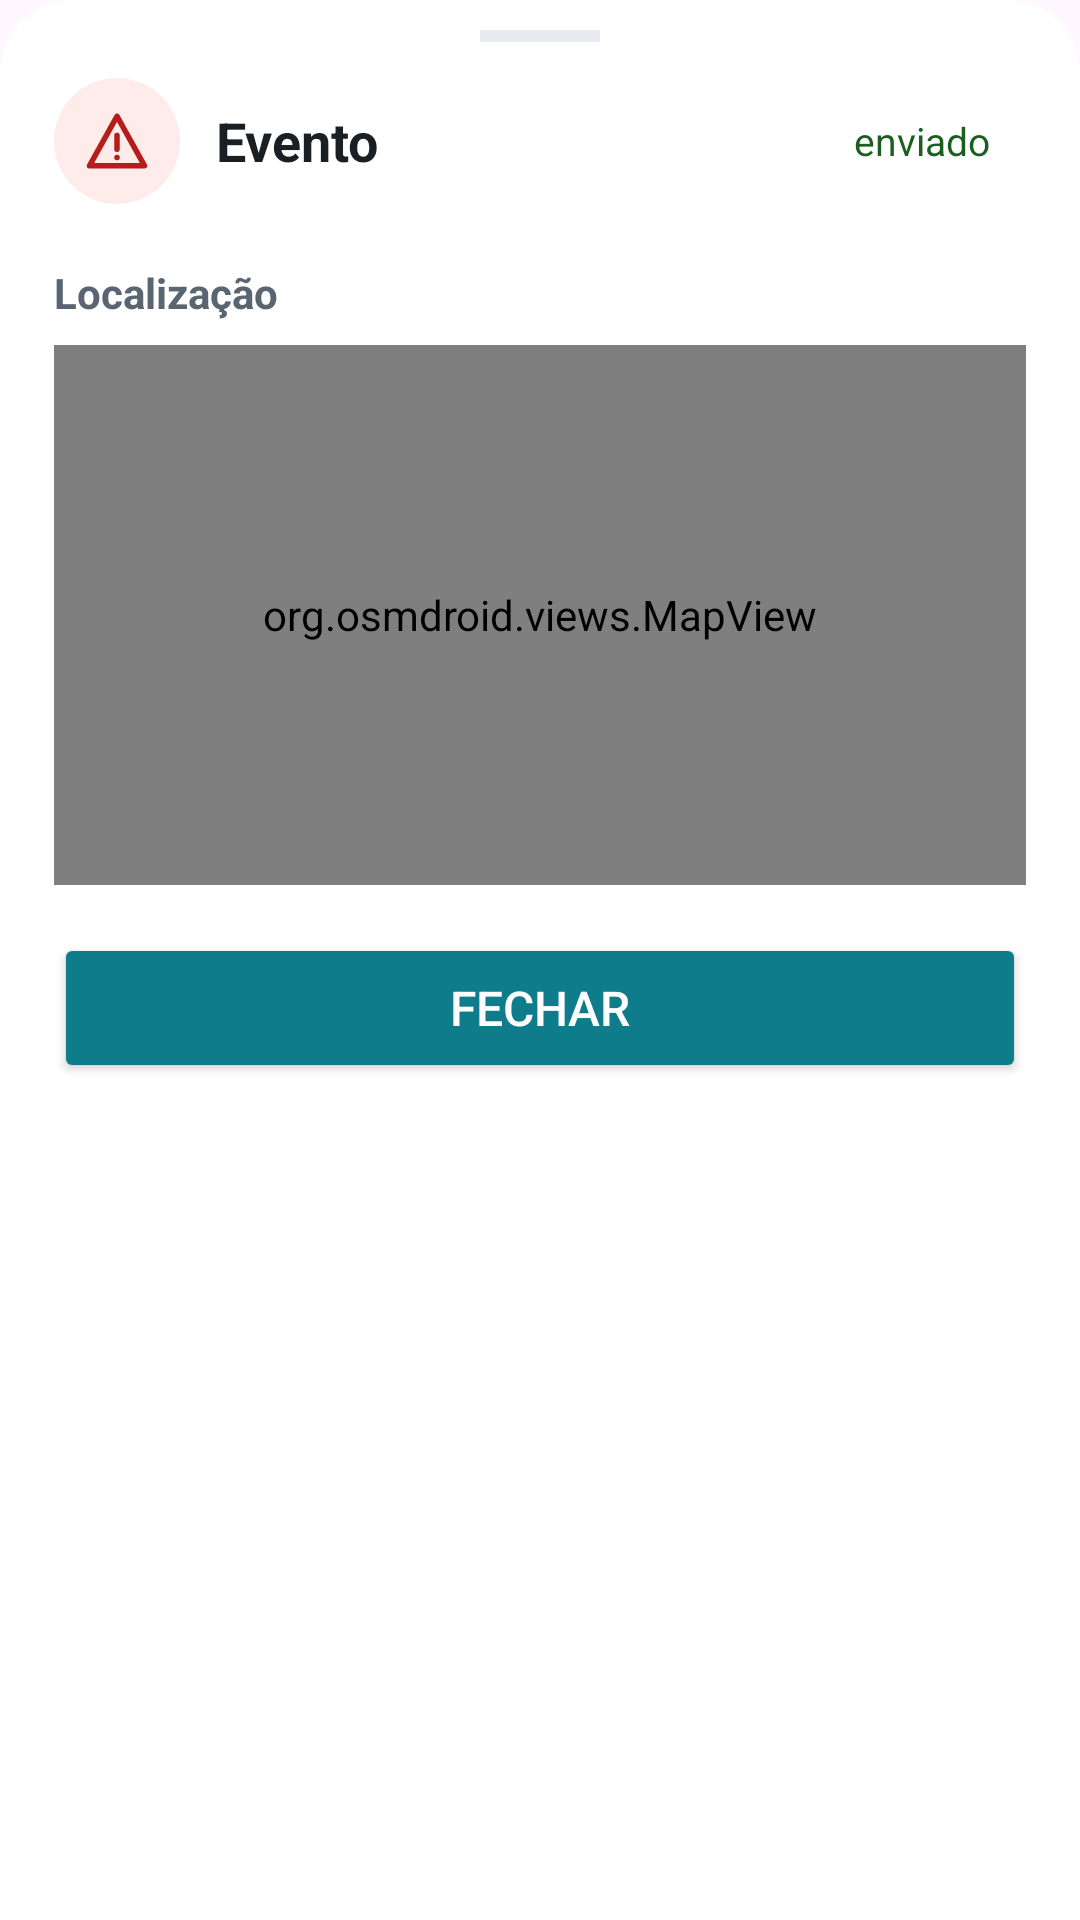

Screen size 1080w x 1920h. Icon name, then its box in pixels as region(x1, y1, x2, y2):
alerta: region(54, 78, 180, 204)
